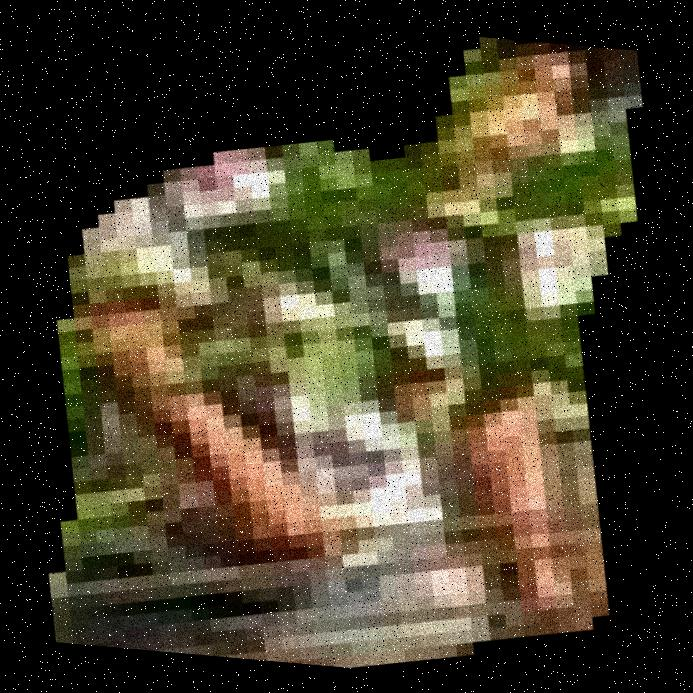Pessoa: (81, 0, 577, 692)
